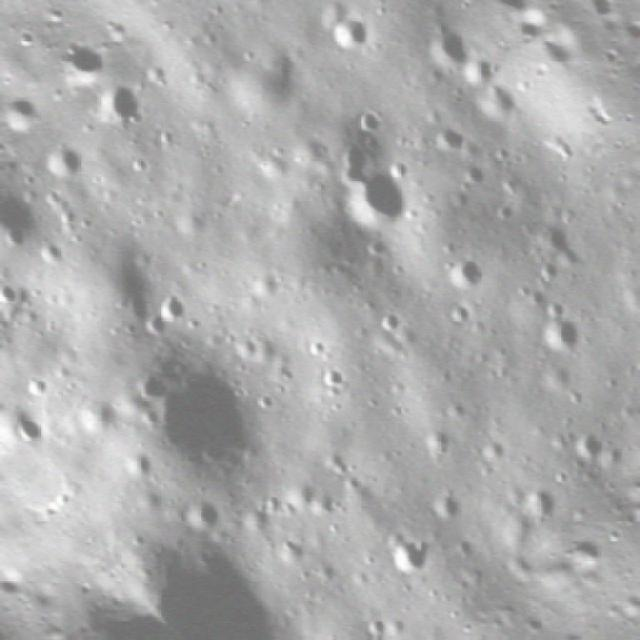crater: (107, 335, 284, 514), (129, 507, 343, 640), (334, 160, 432, 258), (79, 70, 158, 147), (415, 17, 487, 89), (316, 134, 387, 203), (376, 526, 442, 592), (32, 130, 98, 196), (0, 173, 52, 256), (466, 72, 532, 136), (512, 470, 574, 532), (448, 44, 509, 104), (108, 274, 168, 334), (323, 8, 383, 67), (409, 418, 468, 477), (174, 489, 231, 546), (440, 248, 498, 304), (536, 305, 592, 361), (0, 400, 54, 458), (533, 359, 587, 412), (417, 484, 469, 538), (310, 356, 359, 406), (150, 286, 198, 334), (222, 330, 269, 378), (242, 264, 290, 311), (114, 444, 161, 491), (565, 429, 612, 476), (493, 533, 539, 579), (272, 528, 318, 574), (427, 121, 471, 165), (352, 100, 394, 143), (440, 298, 482, 340), (138, 310, 180, 352), (352, 606, 403, 640), (137, 55, 178, 97), (372, 303, 413, 345), (310, 552, 352, 593), (456, 157, 496, 197), (298, 329, 338, 369), (18, 369, 56, 409), (246, 384, 285, 422), (0, 275, 26, 317), (258, 0, 291, 3)
